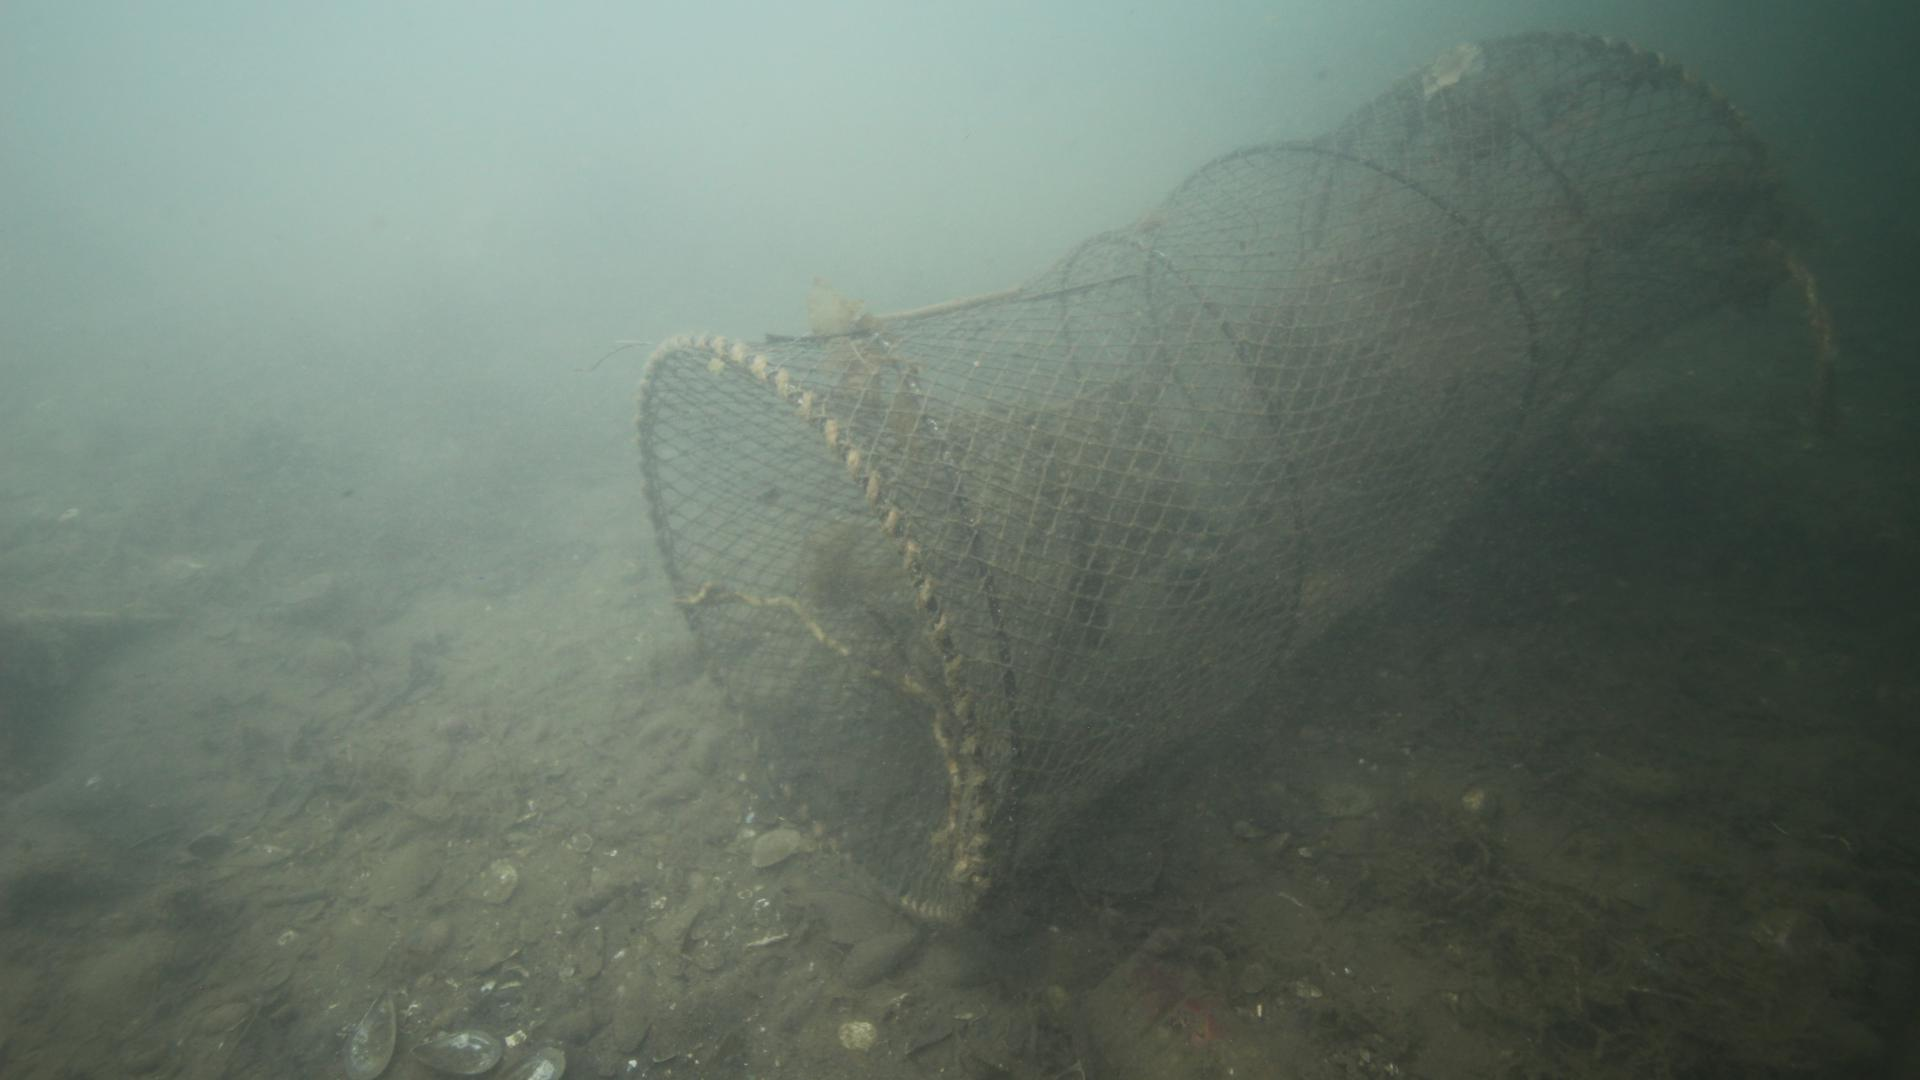spring fish trap: (634, 33, 1789, 922)
